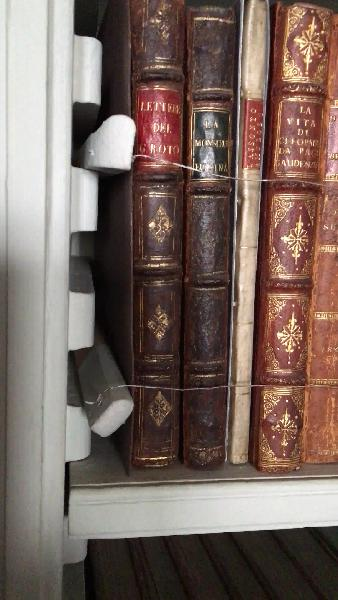Aa6-1: (131, 5, 187, 471)
Aa6-2: (183, 4, 249, 473)
Aa6-3: (231, 2, 267, 470)
Aa6-4: (250, 3, 329, 467)
